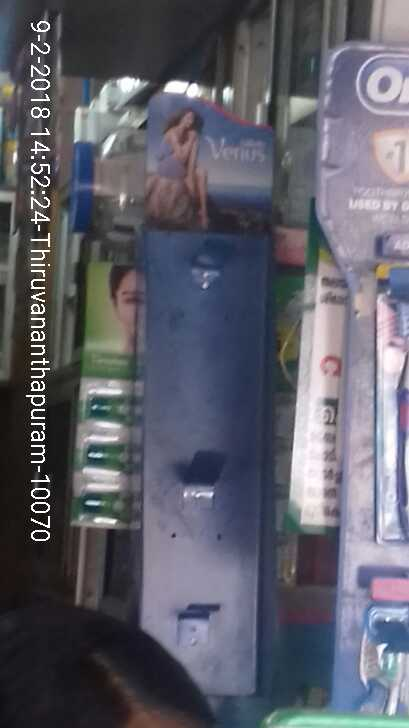reject: (145, 260, 180, 301)
